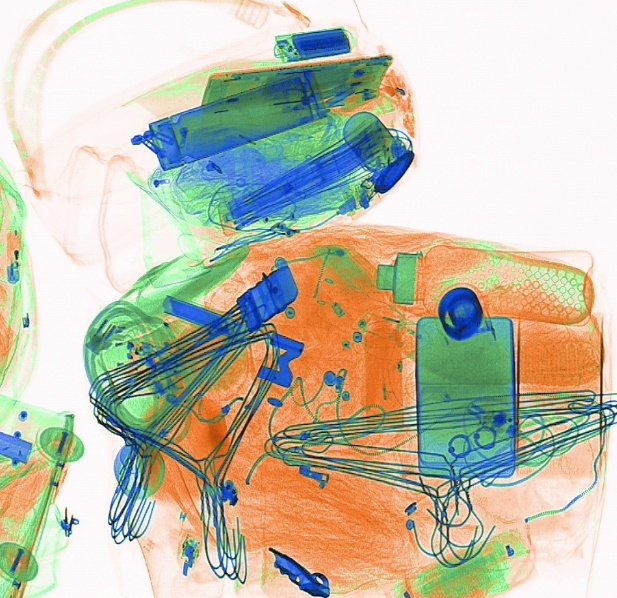glassbottle: (341, 109, 403, 175)
laptop: (196, 53, 393, 118)
lighter: (5, 226, 23, 285)
metalcup: (146, 68, 329, 173)
powerbank: (272, 25, 352, 62)
umbrella: (216, 117, 394, 236)
yktsdaopian: (160, 293, 252, 342)
